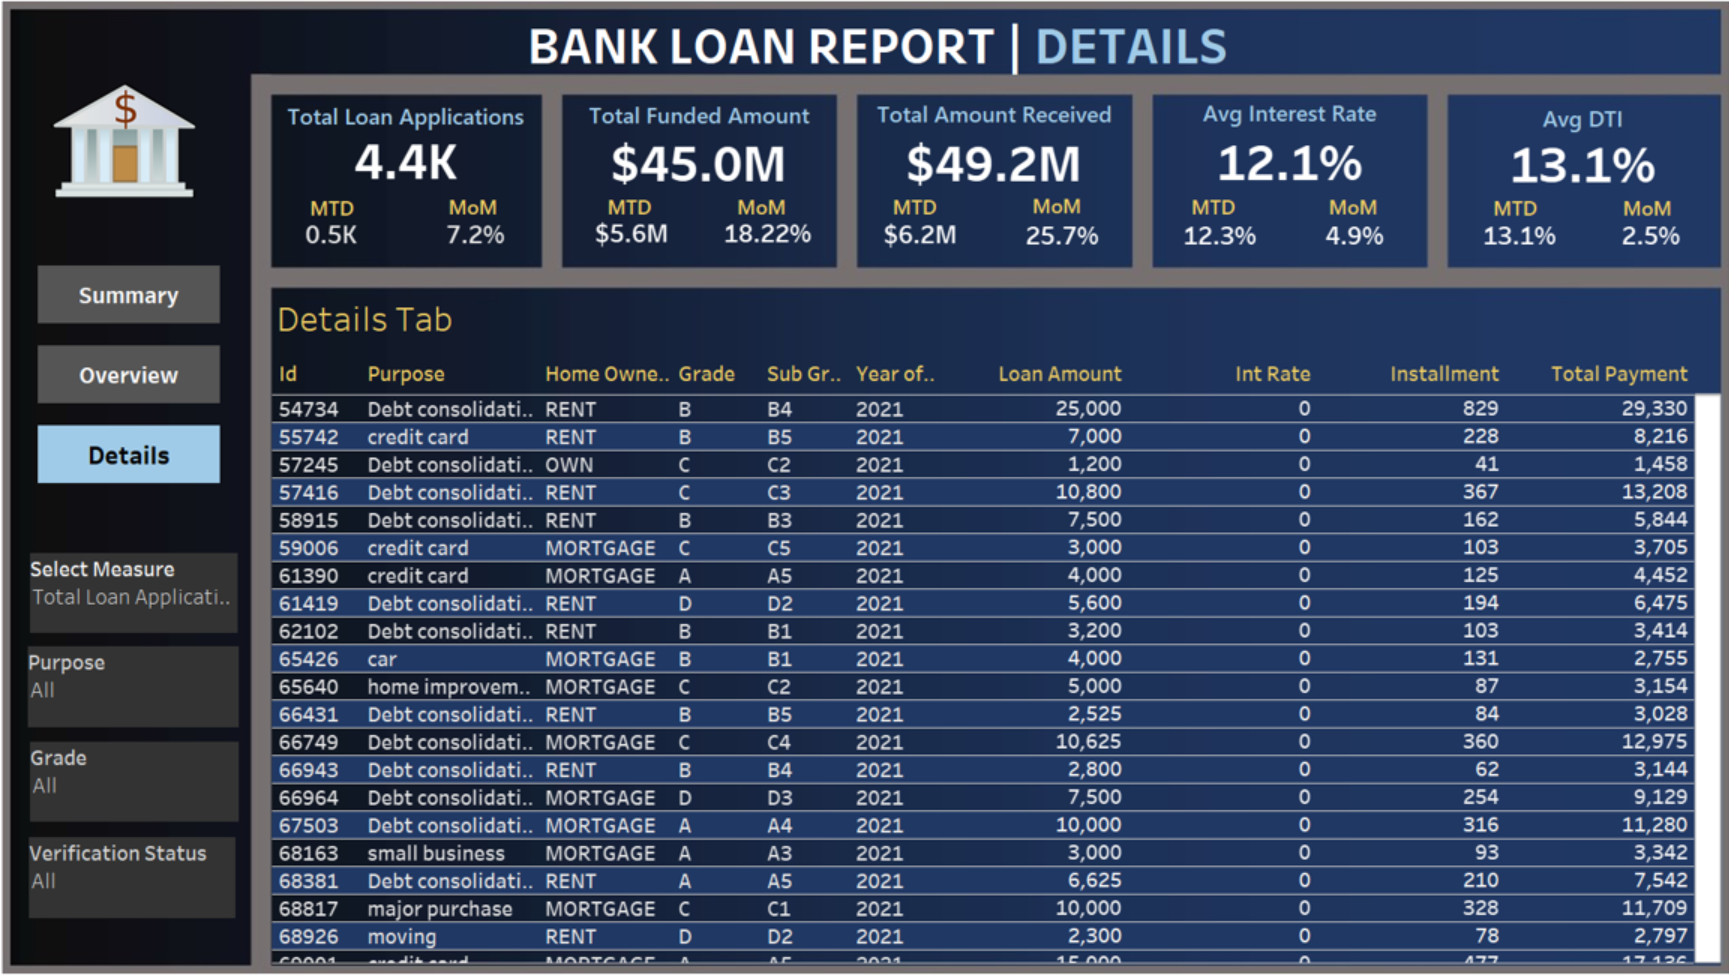

The dashboard page shown, as its layout file describes it:
{"tool":"tableau","page":{"name":"DETAILS","canvas":[1600,900],"ordinal":0},"visuals":[{"type":"image","param":"Image/Tableau Background 3.jpg","box":[8,8,1584,884]},{"type":"text","box":[490,12,694,77]},{"type":"image","param":"Image/Bank-PNG-Free-Download.png","box":[64,78,132,119]},{"type":"worksheet","title":"Avg Interest Rate","mark":"Automatic","box":[1058,92,246,85]},{"type":"worksheet","title":"Total Amount Received","mark":"Automatic","box":[791,93,248,85]},{"type":"worksheet","title":"Total Funded Amount","mark":"Automatic","box":[525,94,248,83]},{"type":"worksheet","title":"Total Loan Applications","mark":"Automatic","box":[263,95,243,78]},{"type":"worksheet","title":"Avg DTI","mark":"Automatic","box":[1323,97,244,79]},{"type":"text","box":[921,181,100,30]},{"type":"text","box":[395,182,100,30]},{"type":"text","box":[536,182,100,30]},{"type":"text","box":[655,182,100,30]},{"type":"text","box":[793,182,100,30]},{"type":"text","box":[1062,182,100,30]},{"type":"text","box":[1188,182,100,30]},{"type":"text","box":[268,183,100,30]},{"type":"text","box":[1334,183,100,30]},{"type":"text","box":[1453,183,100,30]},{"type":"worksheet","title":"MTD Avg DTI","mark":"Automatic","box":[1335,201,107,43]},{"type":"worksheet","title":"MoM Avg DTI","mark":"Automatic","box":[1453,201,107,44]},{"type":"worksheet","title":"MTD Total Loan Applications","mark":"Automatic","box":[276,203,83,37]},{"type":"worksheet","title":"MoM Total Loan Applications","mark":"Automatic","box":[402,203,91,37]},{"type":"worksheet","title":"MTD Total Amount Received","mark":"Automatic","box":[805,203,87,37]},{"type":"worksheet","title":"MTD Total Funded Amount","mark":"Automatic","box":[542,205,94,31]},{"type":"worksheet","title":"MTD Avg Interest Rate","mark":"Automatic","box":[1072,205,92,35]},{"type":"worksheet","title":"MoM Total Funded Amount","mark":"Automatic","box":[665,206,91,29]},{"type":"worksheet","title":"MoM Total Amount Received","mark":"Automatic","box":[934,206,84,34]},{"type":"worksheet","title":"MoM Avg Interest Rate","mark":"Automatic","box":[1199,207,81,32]},{"type":"dashboard-object","box":[53,250,164,52]},{"type":"worksheet","title":"Details Tab","mark":"Automatic","rows":["id","purpose","home_ownership","grade","sub_grade","issue_date"],"box":[264,270,1306,609]},{"type":"dashboard-object","box":[53,322,164,52]},{"type":"dashboard-object","box":[53,394,164,52]},{"type":"parameter","param":"[Parameters].[Parameter 1]","box":[46,509,187,72]},{"type":"filter","title":"Avg DTI","param":"[federated.1sxqoc00v92h8717uxid810dnazq].[none:purpose:nk]","box":[44,593,190,73]},{"type":"filter","title":"Avg DTI","param":"[federated.1sxqoc00v92h8717uxid810dnazq].[none:grade:nk]","box":[46,679,188,72]},{"type":"filter","title":"Avg DTI","param":"[federated.1sxqoc00v92h8717uxid810dnazq].[none:verification_status:nk]","box":[45,765,186,73]}]}

Visuals, with their boxes in screenshot pixels (x1, y1, x2, y2), scaled from the page's 1600x900 canvas onto the 1729x975 screenshot:
image: (left=9, top=9, right=1720, bottom=966)
text: (left=530, top=13, right=1279, bottom=96)
image: (left=69, top=84, right=212, bottom=213)
"Avg Interest Rate" worksheet: (left=1143, top=100, right=1409, bottom=192)
"Total Amount Received" worksheet: (left=855, top=101, right=1123, bottom=193)
"Total Funded Amount" worksheet: (left=567, top=102, right=835, bottom=192)
"Total Loan Applications" worksheet: (left=284, top=103, right=547, bottom=187)
"Avg DTI" worksheet: (left=1430, top=105, right=1693, bottom=191)
text: (left=995, top=196, right=1103, bottom=229)
text: (left=427, top=197, right=535, bottom=230)
text: (left=579, top=197, right=687, bottom=230)
text: (left=708, top=197, right=816, bottom=230)
text: (left=857, top=197, right=965, bottom=230)
text: (left=1148, top=197, right=1256, bottom=230)
text: (left=1284, top=197, right=1392, bottom=230)
text: (left=290, top=198, right=398, bottom=231)
text: (left=1442, top=198, right=1550, bottom=231)
text: (left=1570, top=198, right=1678, bottom=231)
"MTD Avg DTI" worksheet: (left=1443, top=218, right=1558, bottom=264)
"MoM Avg DTI" worksheet: (left=1570, top=218, right=1686, bottom=265)
"MTD Total Loan Applications" worksheet: (left=298, top=220, right=388, bottom=260)
"MoM Total Loan Applications" worksheet: (left=434, top=220, right=533, bottom=260)
"MTD Total Amount Received" worksheet: (left=870, top=220, right=964, bottom=260)
"MTD Total Funded Amount" worksheet: (left=586, top=222, right=687, bottom=256)
"MTD Avg Interest Rate" worksheet: (left=1158, top=222, right=1258, bottom=260)
"MoM Total Funded Amount" worksheet: (left=719, top=223, right=817, bottom=255)
"MoM Total Amount Received" worksheet: (left=1009, top=223, right=1100, bottom=260)
"MoM Avg Interest Rate" worksheet: (left=1296, top=224, right=1383, bottom=259)
dashboard-object: (left=57, top=271, right=234, bottom=327)
"Details Tab" worksheet: (left=285, top=292, right=1697, bottom=952)
dashboard-object: (left=57, top=349, right=234, bottom=405)
dashboard-object: (left=57, top=427, right=234, bottom=483)
parameter: (left=50, top=551, right=252, bottom=629)
"Avg DTI" filter: (left=48, top=642, right=253, bottom=722)
"Avg DTI" filter: (left=50, top=736, right=253, bottom=814)
"Avg DTI" filter: (left=49, top=829, right=250, bottom=908)
